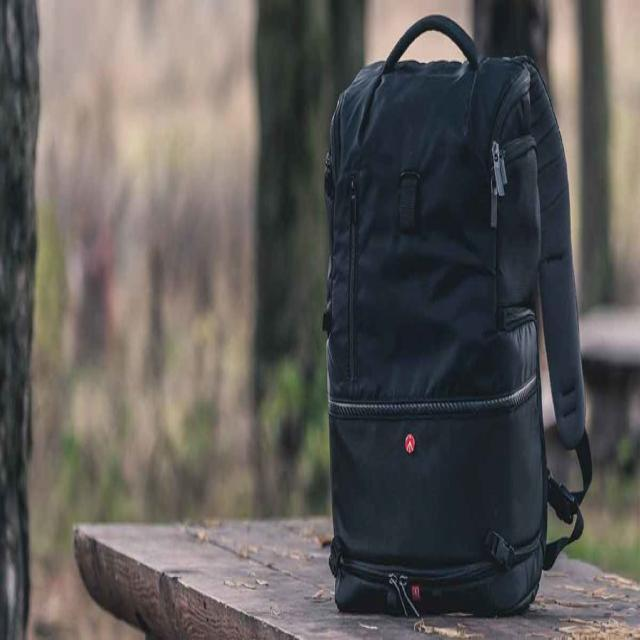Backpacks: (322, 9, 588, 624)
